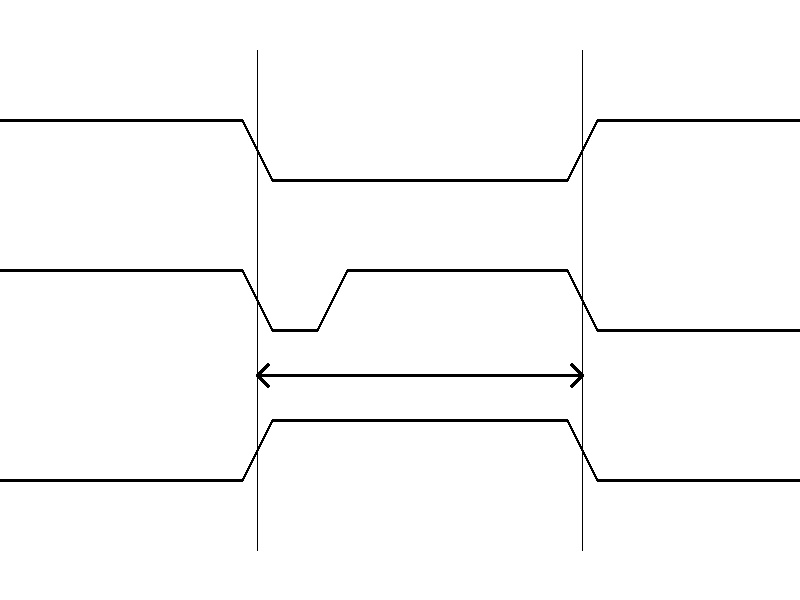double_arrow: (257, 360, 582, 390)
